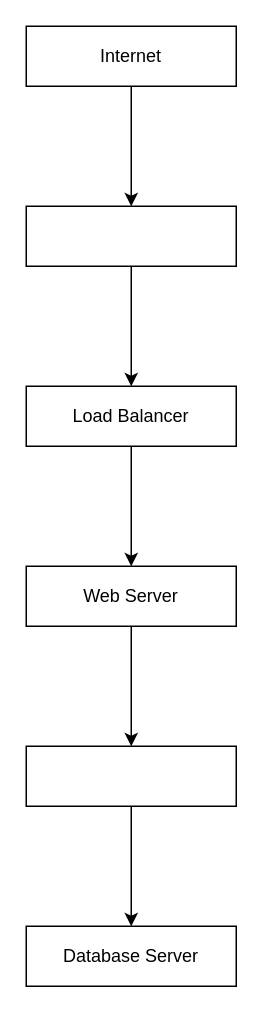
This 263x1013 diagram has some shape labels left out. Here are the shapes that lost their labels. From the top down, the box of each, then its label:
(25, 205, 236, 266): Firewall
(25, 745, 236, 806): Application Server
